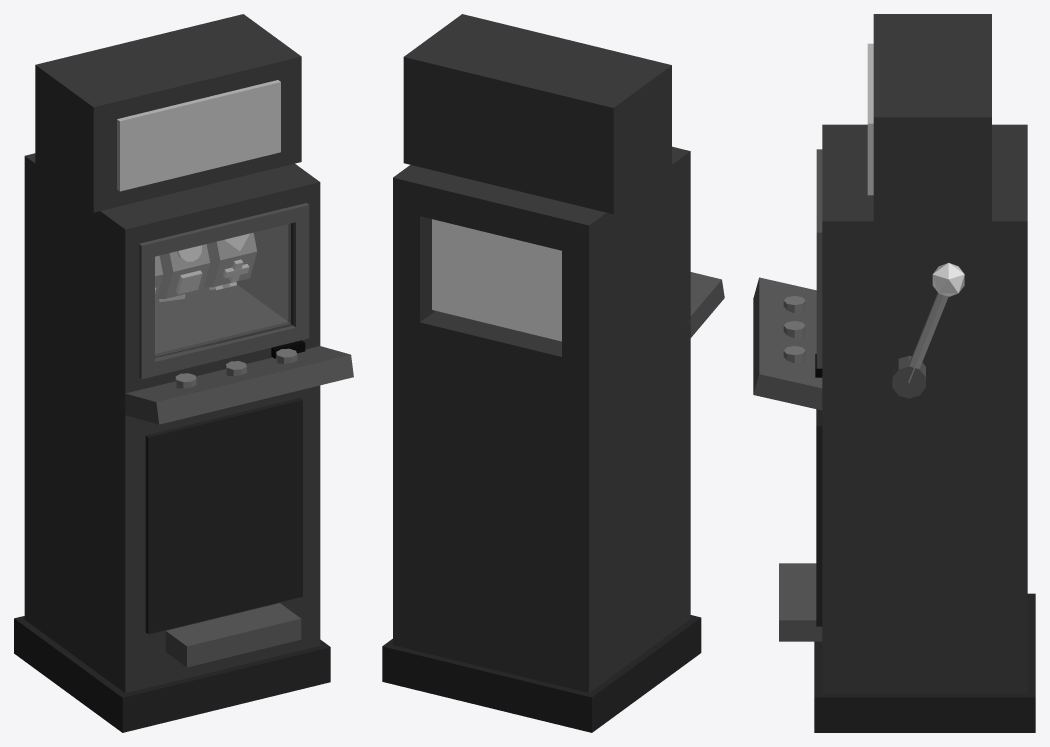
The model's file is SlotMachine.fbx.
3 renders of one model, left to right at view 1: azimuth 30°, elevation 25°; view 2: azimuth 150°, elevation 25°; view 3: azimuth 270°, elevation 25°, orthographic.
Visible parts, largest first — view 1: SlotMachine, ReelGlass, Reel_2, Reel_1; view 2: SlotMachine, ReelBacklight; view 3: SlotMachine, Lever.
Part boxes in pixels (x1,y1,x2,y2): SlotMachine: (14, 14, 353, 732); ReelGlass: (155, 223, 290, 356); Reel_2: (204, 233, 256, 289); Reel_1: (157, 244, 209, 301); SlotMachine: (382, 14, 724, 732); ReelBacklight: (432, 219, 561, 341); SlotMachine: (753, 14, 1035, 732); Lever: (908, 262, 964, 382).
Bounding box in the file's own units: 0.6929 × 1.72 × 0.7143.
